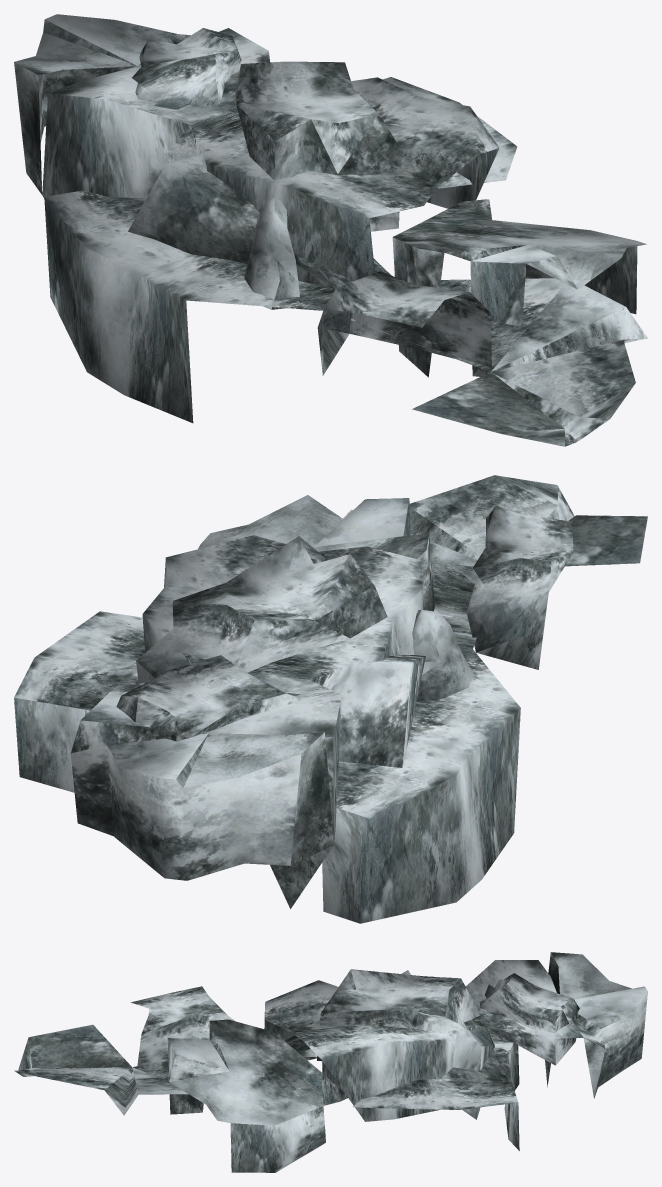
The model's file is S_Rock_White046_3.FBX.
The picture shows the model from 3 angles, top to bottom: view 1: azimuth 30°, elevation 25°; view 2: azimuth 150°, elevation 25°; view 3: azimuth 270°, elevation 25°; orthographic projection. The views are drawn at different scales.
Visible parts, largest first — view 1: S_Rock_White046_3; view 2: S_Rock_White046_3; view 3: S_Rock_White046_3.
Part boxes in pixels (x1,y1,x2,y2): S_Rock_White046_3: (14,14,647,446); S_Rock_White046_3: (14,475,647,923); S_Rock_White046_3: (14,952,647,1172).
Bounding box in the file's own units: 576 × 355 × 1173.
